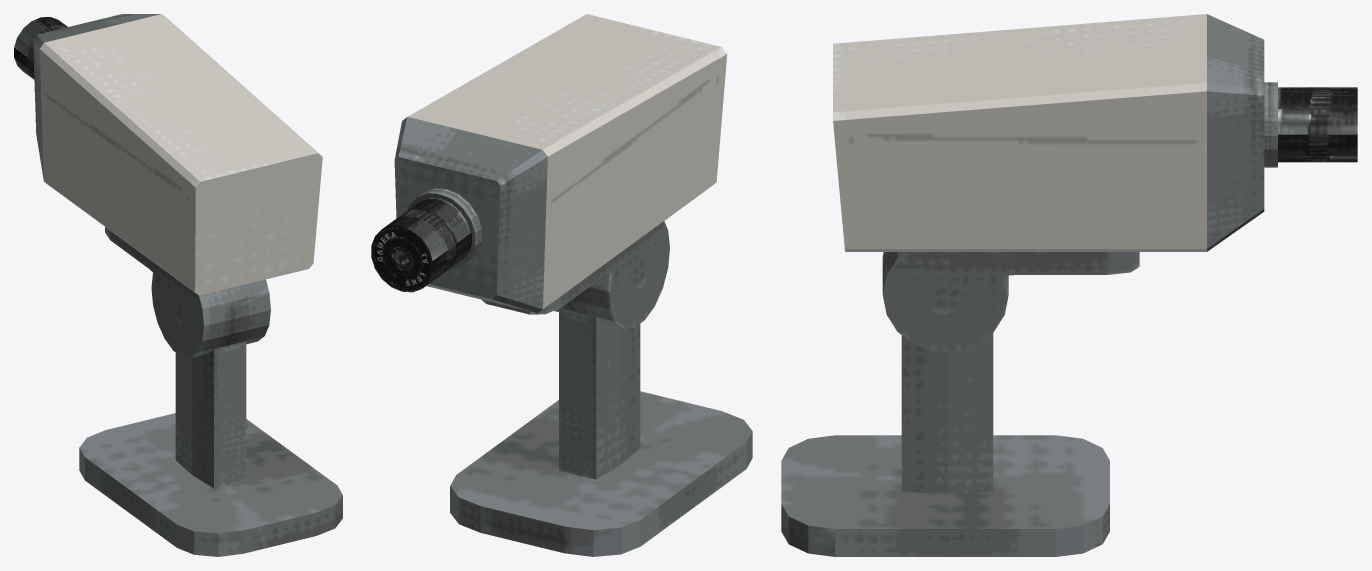
The model's file is Cam.fbx.
3 renders of one model, left to right at view 1: azimuth 30°, elevation 25°; view 2: azimuth 150°, elevation 25°; view 3: azimuth 270°, elevation 25°, orthographic. The views are drawn at different scales.
Parts seen in each view (by area): view 1: Cam, Handle; view 2: Cam, Handle; view 3: Cam, Handle.
Part boxes in pixels (x1=…): Cam: x1=14, y1=14, x2=322, y2=357; Handle: x1=79, y1=341, x2=342, y2=556; Cam: x1=371, y1=14, x2=727, y2=328; Handle: x1=450, y1=308, x2=752, y2=556; Cam: x1=833, y1=14, x2=1357, y2=351; Handle: x1=781, y1=333, x2=1109, y2=556.
Bounding box in the file's own units: 0.2079 × 0.4784 × 0.5402.
